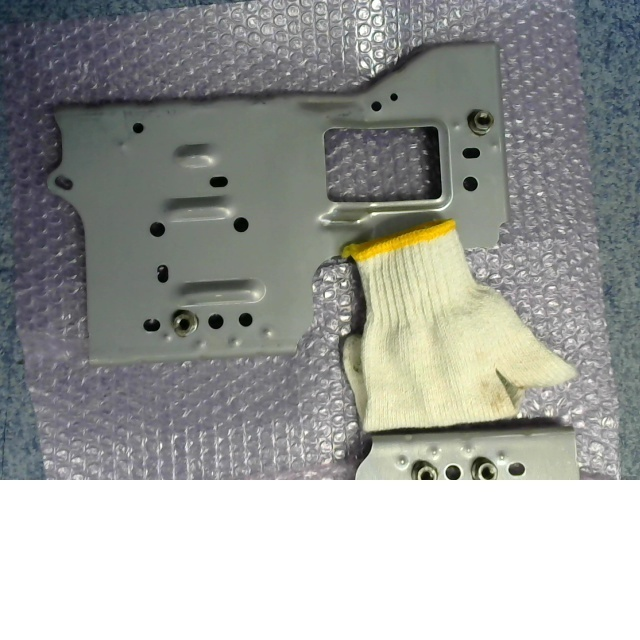dog: (171, 309, 199, 337), (466, 109, 494, 136)
